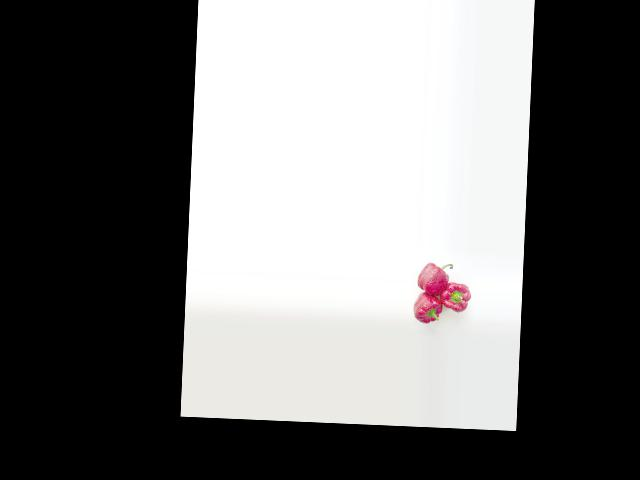bell_pepper: (415, 254, 455, 293)
